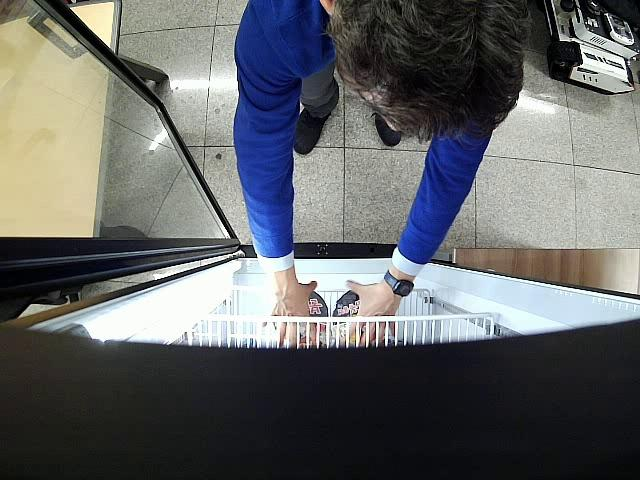00_hand: (263, 278, 318, 350), (345, 281, 398, 346)
07_buldak_L: (332, 289, 366, 344), (299, 290, 328, 343)
